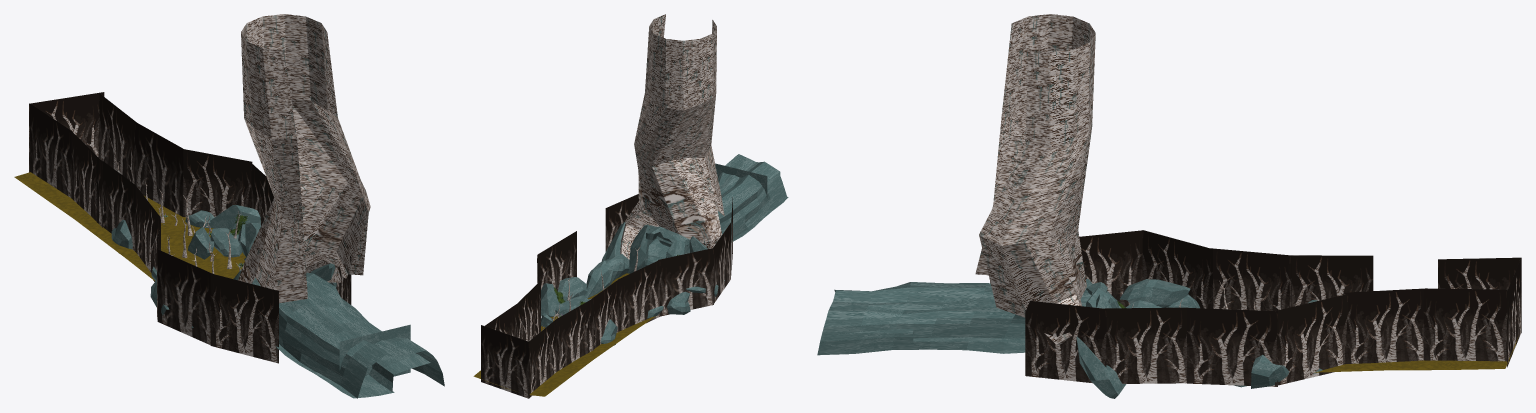
File: map_finale6.obj
3 views of the same model, side by side, from view 1: azimuth 30°, elevation 25°; view 2: azimuth 150°, elevation 25°; view 3: azimuth 270°, elevation 25° (orthographic). The views are drawn at different scales.
Visible parts, largest first — view 1: big_tree, roof, foret.013, lvl_floor, foret.012, foret.003, foret.004, foret.007, foret.005, foret.006, foret.009, foret.008 (+11 smaller); view 2: big_tree, roof, foret.006, foret.011, foret.010, foret.008, foret.002, foret.007, lvl_floor, foret.009, foret.004, foret.012 (+13 smaller); view 3: big_tree, roof, foret.002, foret.005, foret.001, foret.004, foret, foret.003, foret.010, foret.009, foret.011, foret.012 (+7 smaller).
Boxes of the visible parts, x1,y1,x2,y2 form: big_tree: (238, 14, 370, 303); roof: (252, 272, 444, 398); foret.013: (210, 273, 278, 363); lvl_floor: (14, 172, 245, 280); foret.012: (157, 249, 212, 344); foret.003: (183, 149, 252, 217); foret.004: (135, 122, 183, 216); foret.007: (30, 104, 72, 197); foret.005: (99, 93, 136, 184); foret.006: (29, 92, 104, 172); foret.009: (96, 156, 136, 251); foret.008: (71, 131, 102, 227); big_tree: (620, 14, 724, 259); roof: (649, 154, 786, 253); foret.006: (481, 325, 529, 398); foret.011: (658, 248, 713, 316); foret.010: (618, 260, 660, 331); foret.008: (556, 298, 593, 371); foret.002: (537, 231, 576, 290); foret.007: (529, 319, 556, 397); lvl_floor: (473, 273, 655, 396); foret.009: (587, 279, 618, 353); foret.004: (516, 280, 540, 341); foret.012: (713, 223, 730, 303); big_tree: (975, 14, 1095, 345); roof: (817, 282, 1091, 355); foret.002: (1187, 308, 1277, 386); foret.005: (1423, 288, 1507, 361); foret.001: (1105, 307, 1188, 383); foret.004: (1344, 288, 1427, 363); foret: (1025, 301, 1106, 383); foret.003: (1275, 294, 1348, 385); foret.010: (1211, 248, 1291, 311); foret.009: (1289, 255, 1373, 307); foret.011: (1142, 230, 1212, 308); foret.012: (1079, 230, 1142, 307).
Size of the model in its own units: 49.67 by 88.37 by 171.
